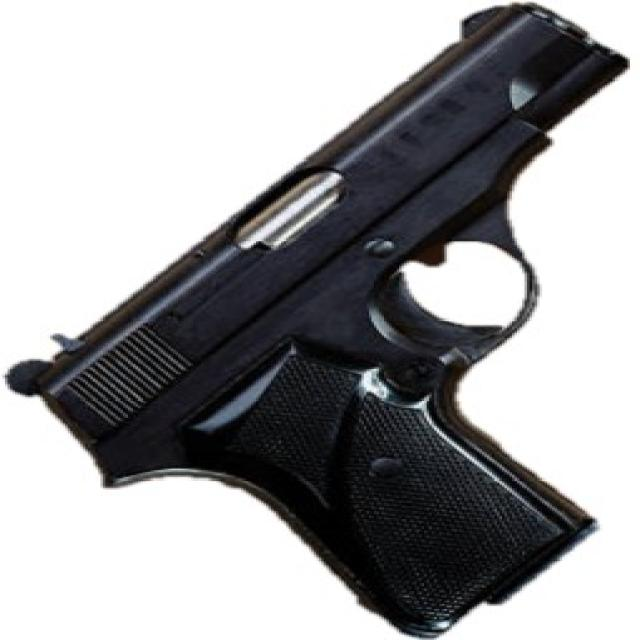pistol: (1, 1, 634, 640)
